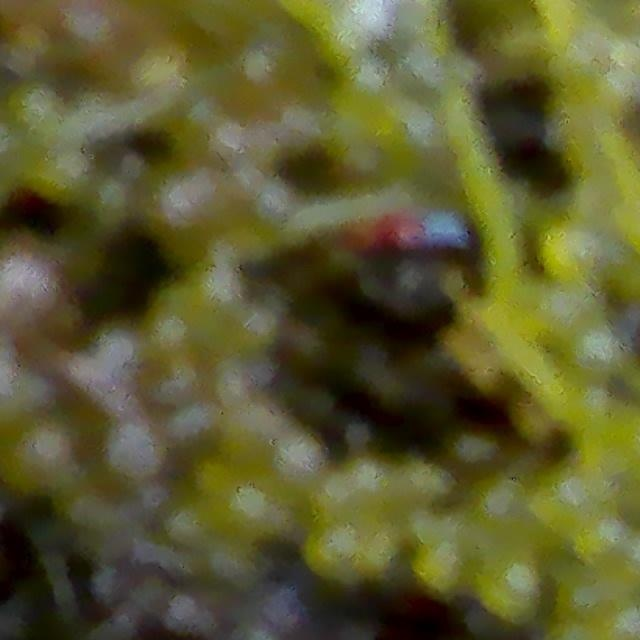SeaGrape: (475, 546, 536, 620), (304, 516, 362, 585), (409, 537, 463, 596)
